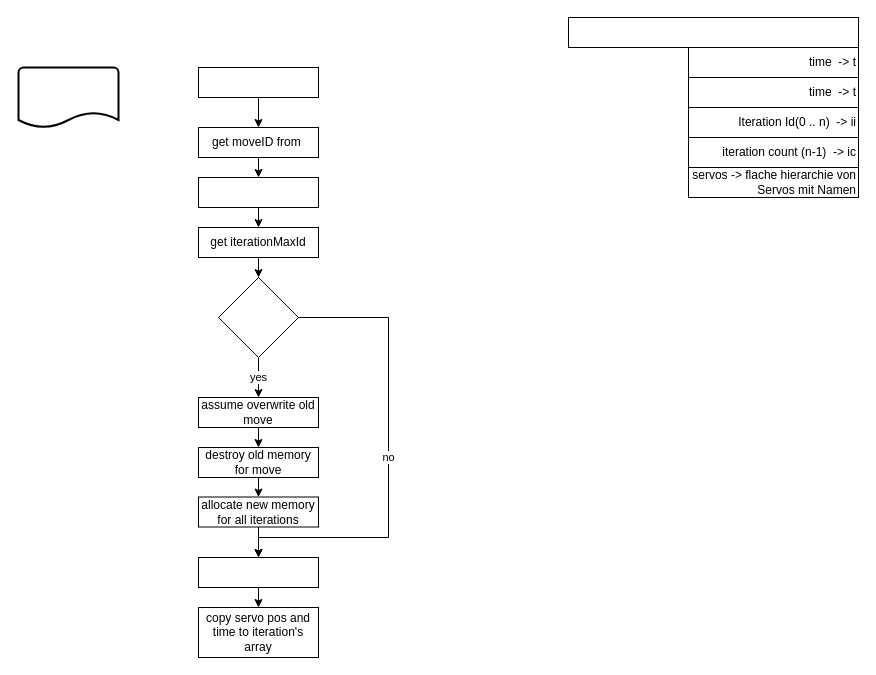
Image size: 876x675. Some labels were removed from this diagram. The shapes that lost their labels are listed below. From the top down, each one's box as (x1, y1, x2, y2) in pixels, then its label:
(568, 16, 858, 48): json (user defined move (data per iteration))
(17, 66, 119, 128): json input
(198, 66, 318, 98): parse json
(198, 176, 318, 208): get iterationCurrentId
(218, 276, 298, 358): is iteration = 0 ?
(198, 556, 318, 588): set iterationID
